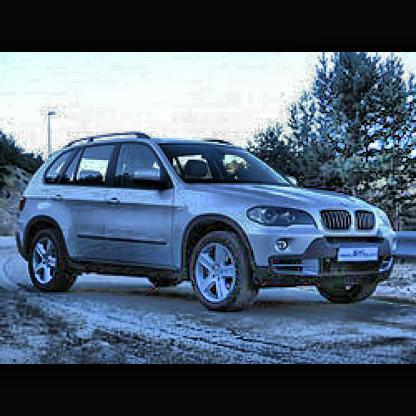BMW X5 SUV 2007: (15, 132, 398, 312)
